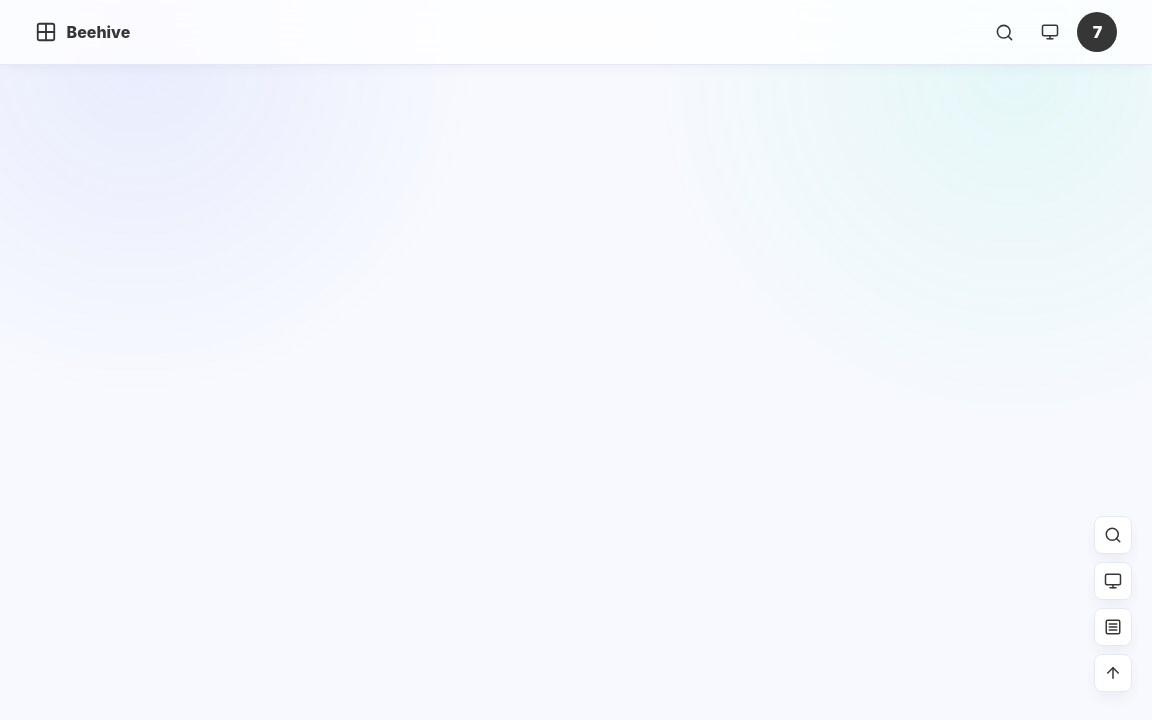
Scenario: SiteHeader › hides Studio from regular users
Click the button named "打开用户菜单" at [1098, 32], box x1=1078 y1=12 x2=1118 y2=52
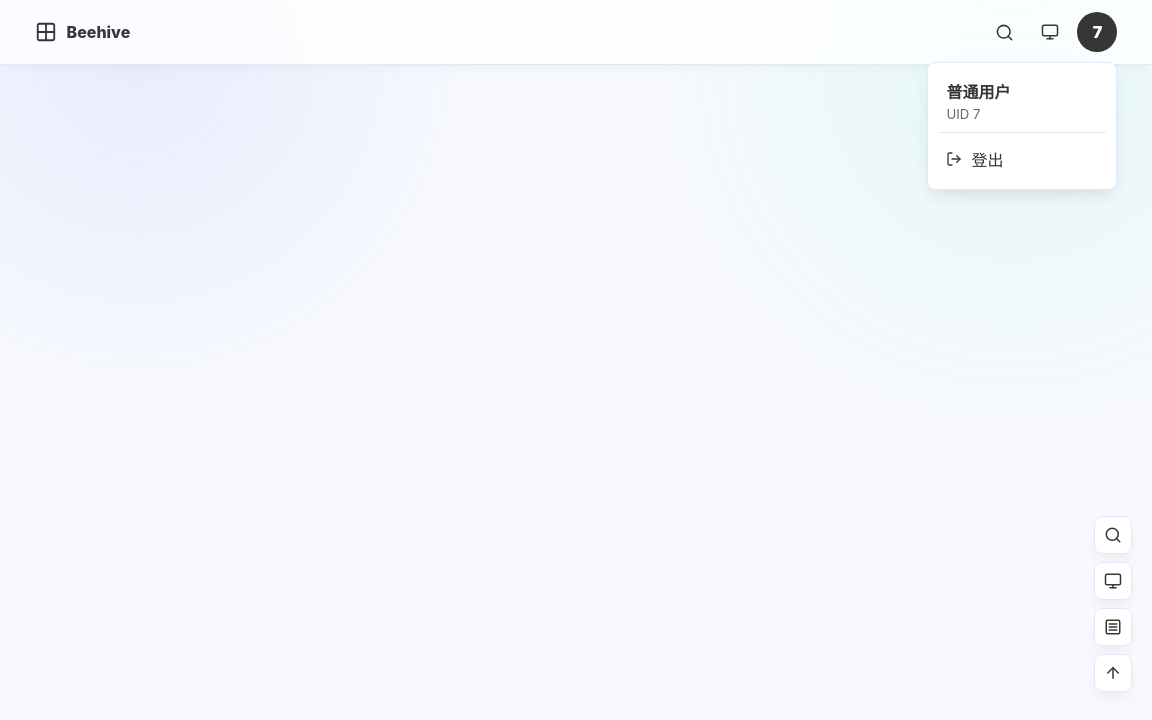
Expected: the menu item "登出" is shown, x1=938 y1=139 x2=1106 y2=179
